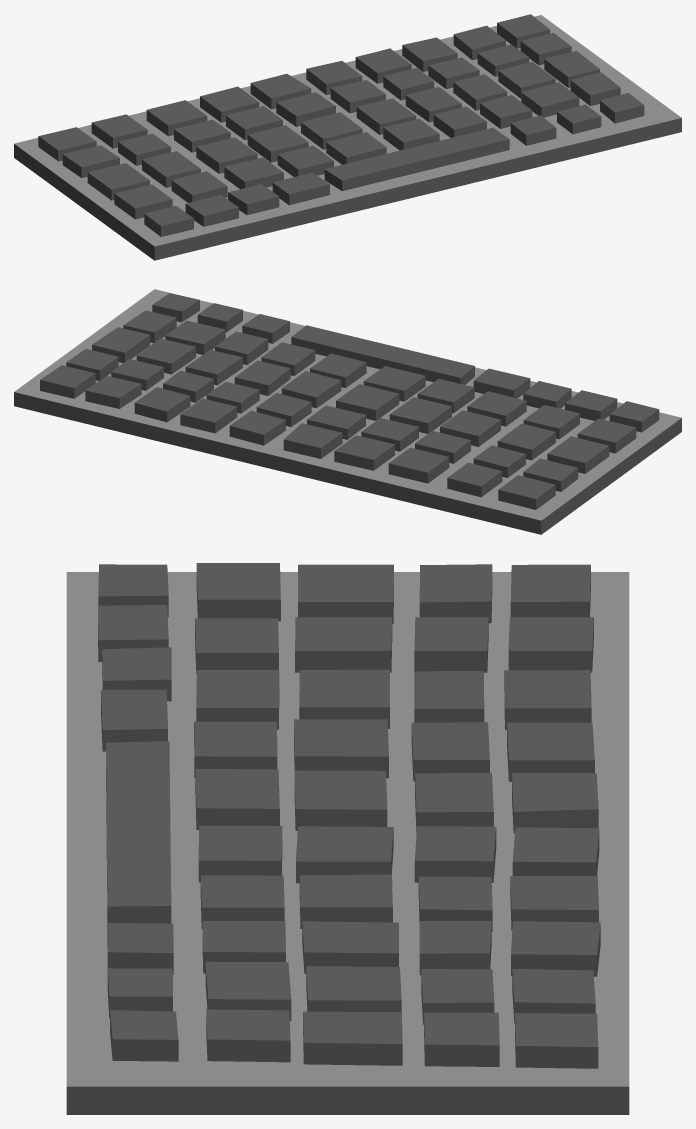
Rendered from Keyboard_2.fbx.
3 renders of one model, top to bottom at view 1: azimuth 30°, elevation 25°; view 2: azimuth 150°, elevation 25°; view 3: azimuth 270°, elevation 25°, orthographic. The views are drawn at different scales.
Parts seen in each view (by area): view 1: Keyboard_2; view 2: Keyboard_2; view 3: Keyboard_2.
Part boxes in pixels (x1=…): Keyboard_2: x1=14, y1=14, x2=681, y2=260; Keyboard_2: x1=14, y1=289, x2=681, y2=534; Keyboard_2: x1=66, y1=563, x2=629, y2=1114.
Size of the model in its own units: 70.25 by 32.45 by 3.19.
